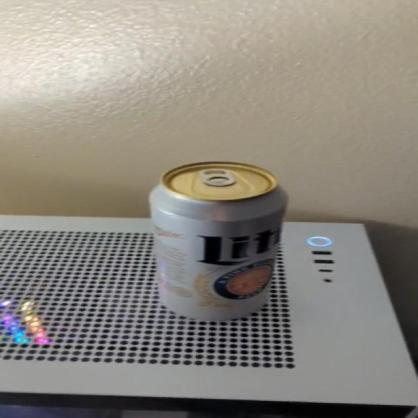can: (150, 162, 289, 319)
